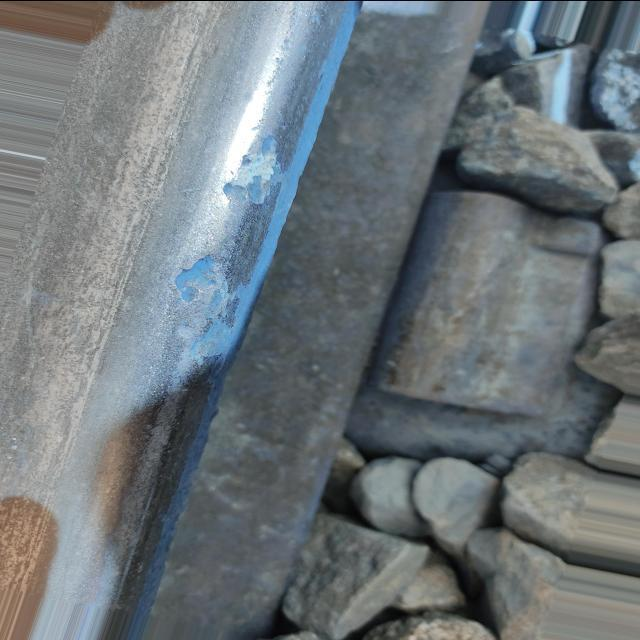head_checks_low: (217, 133, 288, 205), (171, 251, 227, 303), (187, 314, 231, 357)
